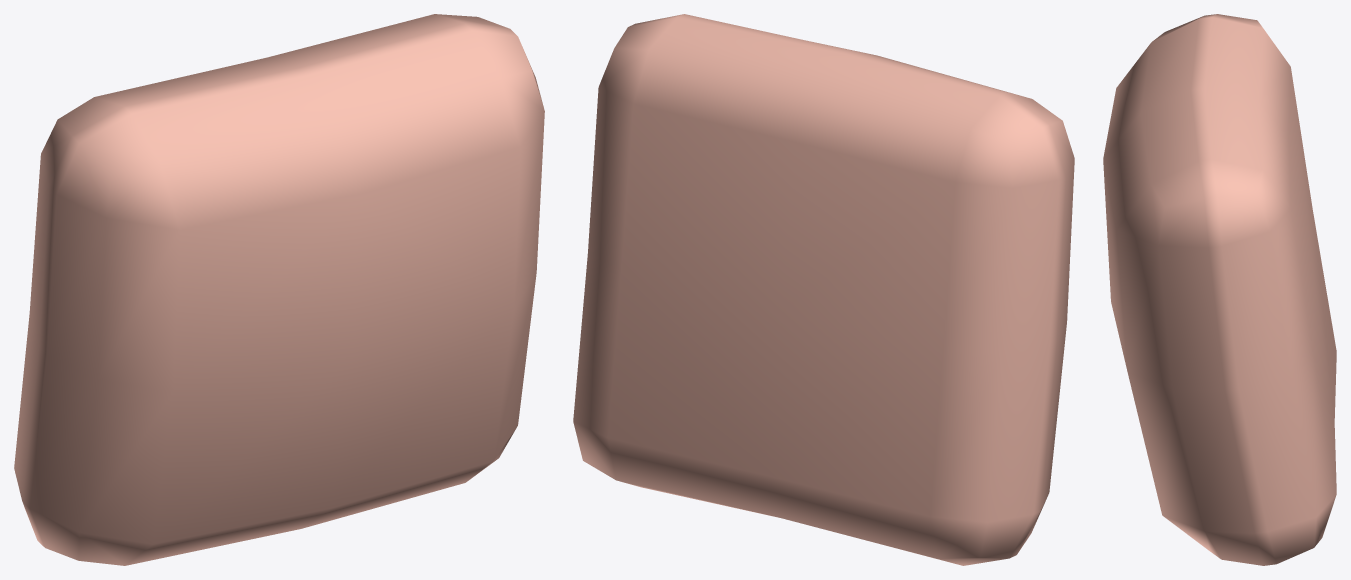
File: Nose B 2.glb
3 views of the same model, side by side, from view 1: azimuth 30°, elevation 25°; view 2: azimuth 150°, elevation 25°; view 3: azimuth 270°, elevation 25° (orthographic). The views are drawn at different scales.
Visible parts, largest first — view 1: nose_b_2; view 2: nose_b_2; view 3: nose_b_2.
Part boxes in pixels (<box>): nose_b_2: <box>14,14,544,565</box>; nose_b_2: <box>573,14,1074,565</box>; nose_b_2: <box>1103,14,1336,565</box>.
Size of the model in its own units: 0.000714 by 0.000672 by 0.000353.
